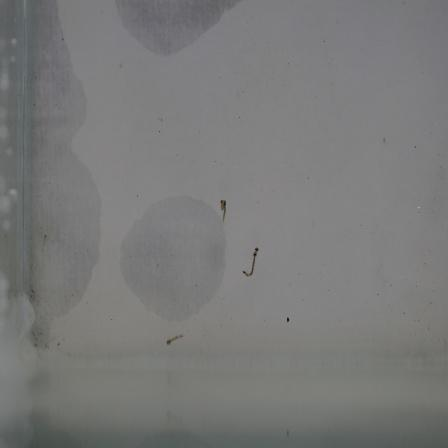Jentik-Nyamuk: (238, 244, 265, 286), (163, 329, 189, 351), (216, 195, 231, 227)
